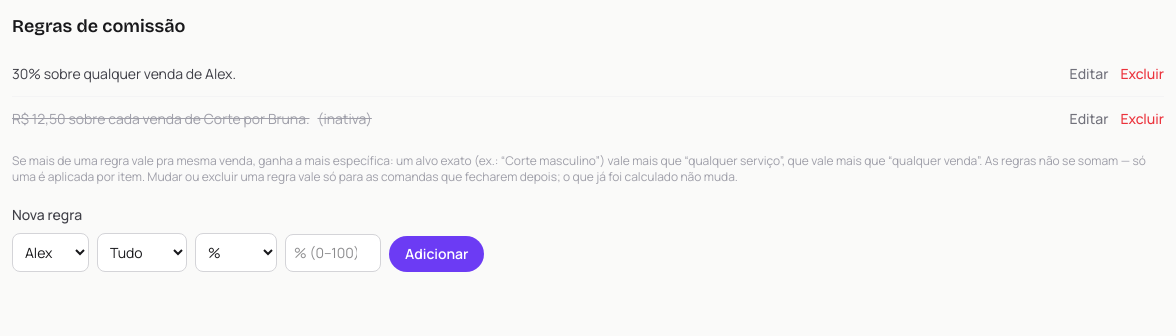
Scenario: ComissoesView: editar e excluir regras › erro do servidor na edição aparece e o formulário continua aberto
This screenshot has width=1176, height=336.
What coordinates should you click on to do the following:
click the button "Editar" in the row of "30% sobre qualquer venda de Alex."
I would click on:
 (1089, 74)
Its box is [1070, 64, 1108, 84].
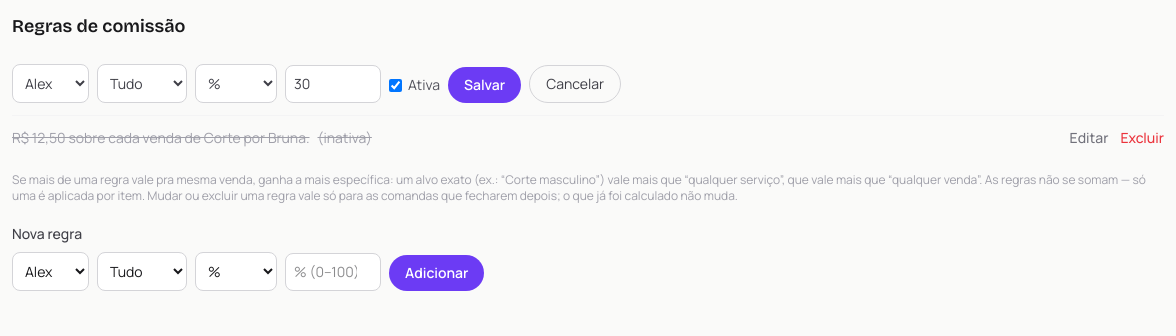
What coordinates should you click on to do the following:
click the button "Salvar"
I would click on:
 (484, 85)
Its box is [448, 67, 521, 103].
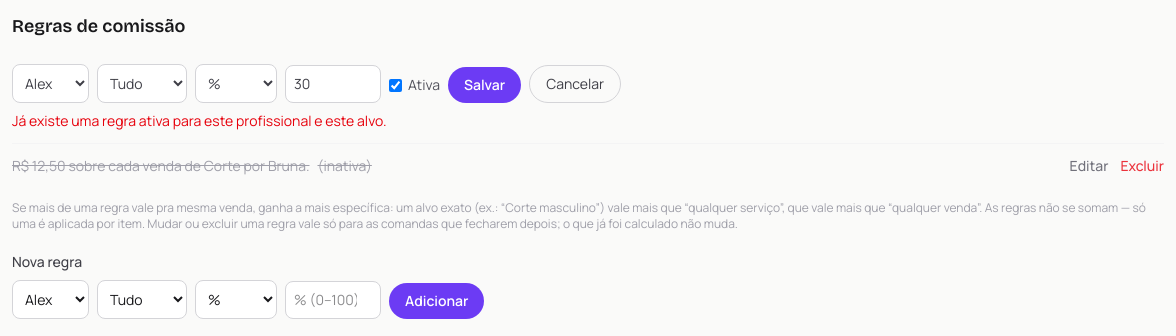
Check: the button "Salvar" is shown, box [448, 67, 521, 103]
Check: the text "Já existe uma regra ativa" is shown, box [12, 111, 386, 130]
